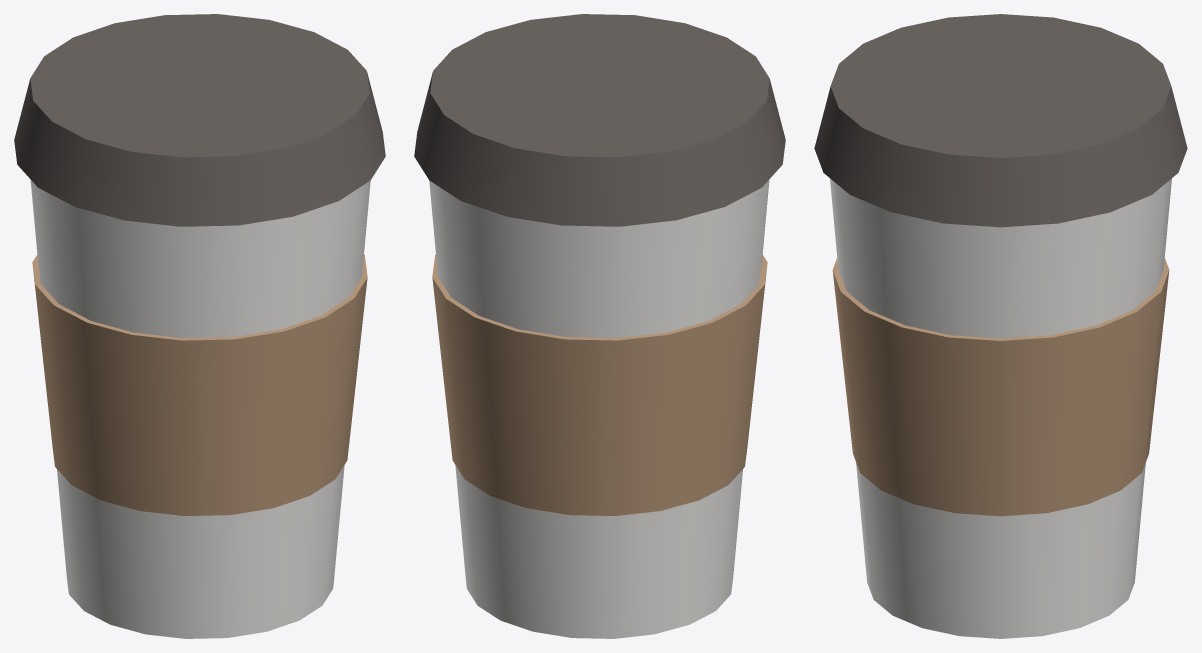
The model's file is Coffee.fbx.
The picture shows the model from 3 angles, left to right: view 1: azimuth 30°, elevation 25°; view 2: azimuth 150°, elevation 25°; view 3: azimuth 270°, elevation 25°; orthographic projection.
Parts seen in each view (by area): view 1: Coffee; view 2: Coffee; view 3: Coffee.
Boxes of the visible parts, <box> form: Coffee: <box>14,14,385,638</box>; Coffee: <box>414,14,785,638</box>; Coffee: <box>814,14,1187,638</box>.
Bounding box in the file's own units: 0.092 × 0.135 × 0.092.
